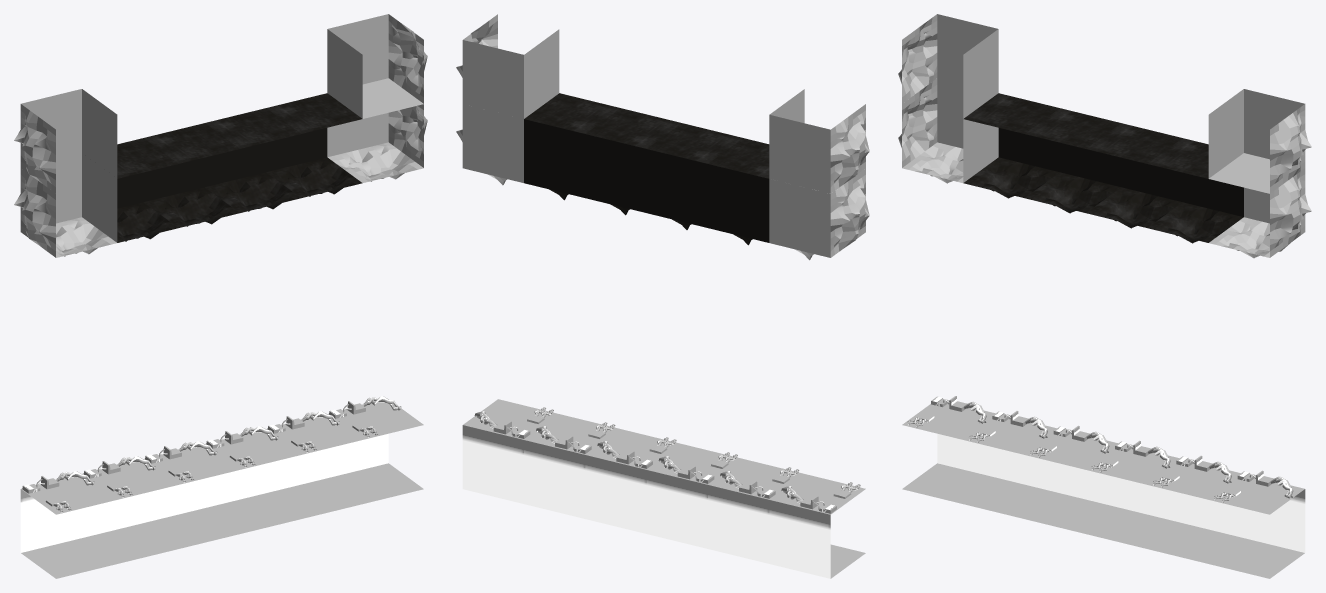
File: Cubi_Corridor9to10.fbx
3 renders of one model, left to right at view 1: azimuth 30°, elevation 25°; view 2: azimuth 150°, elevation 25°; view 3: azimuth 330°, elevation 25°, orthographic.
Parts seen in each view (by area): view 1: Cubes_Corridor9to10; view 2: Cubes_Corridor9to10; view 3: Cubes_Corridor9to10.
Boxes of the visible parts, bbox=[...] form: Cubes_Corridor9to10: bbox=[14, 14, 427, 578]; Cubes_Corridor9to10: bbox=[456, 14, 869, 578]; Cubes_Corridor9to10: bbox=[898, 14, 1311, 578].
Size of the model in its own units: 645 by 700 by 100.
